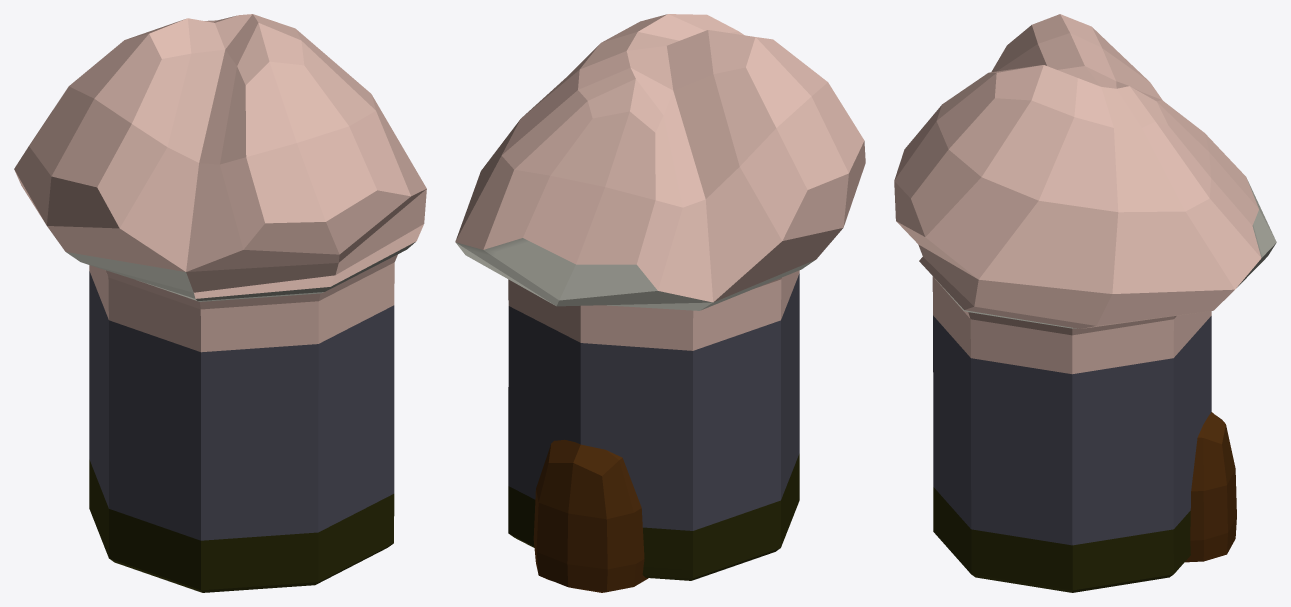
The model's file is building_mason.fbx.
3 renders of one model, left to right at view 1: azimuth 30°, elevation 25°; view 2: azimuth 150°, elevation 25°; view 3: azimuth 270°, elevation 25°, orthographic. The views are drawn at different scales.
Parts seen in each view (by area): view 1: Cube; view 2: Cube; view 3: Cube.
Boxes of the visible parts, x1,y1,x2,y2 form: Cube: [14, 14, 426, 592]; Cube: [455, 14, 865, 592]; Cube: [894, 14, 1276, 592].
Bounding box in the file's own units: 461 × 649 × 463.
